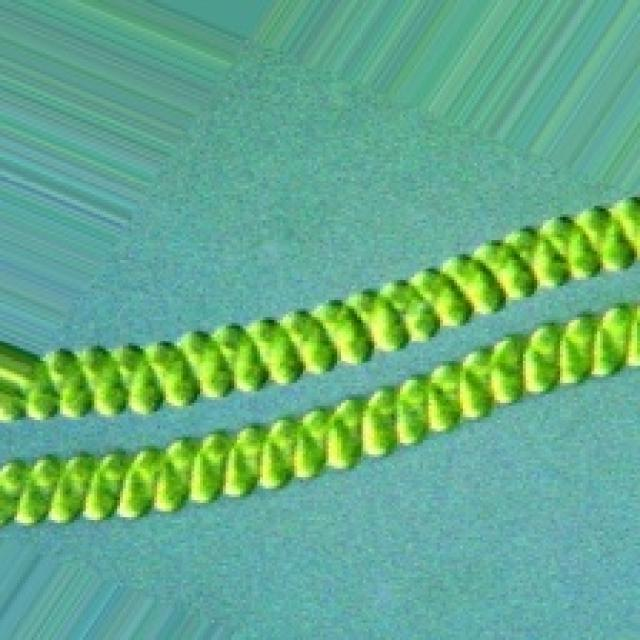Spiral_bacteria: (0, 163, 637, 540)
